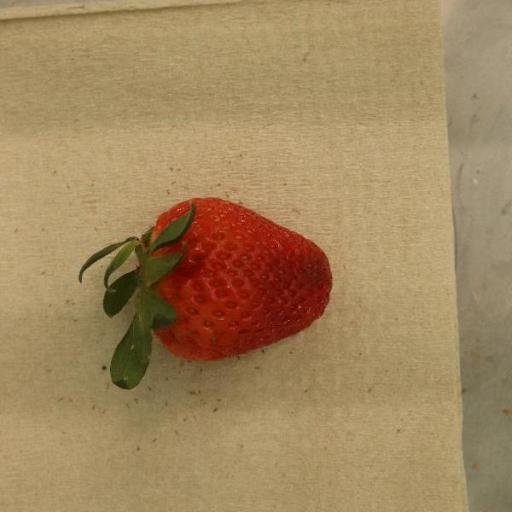Strawberry: (77, 198, 333, 391)
